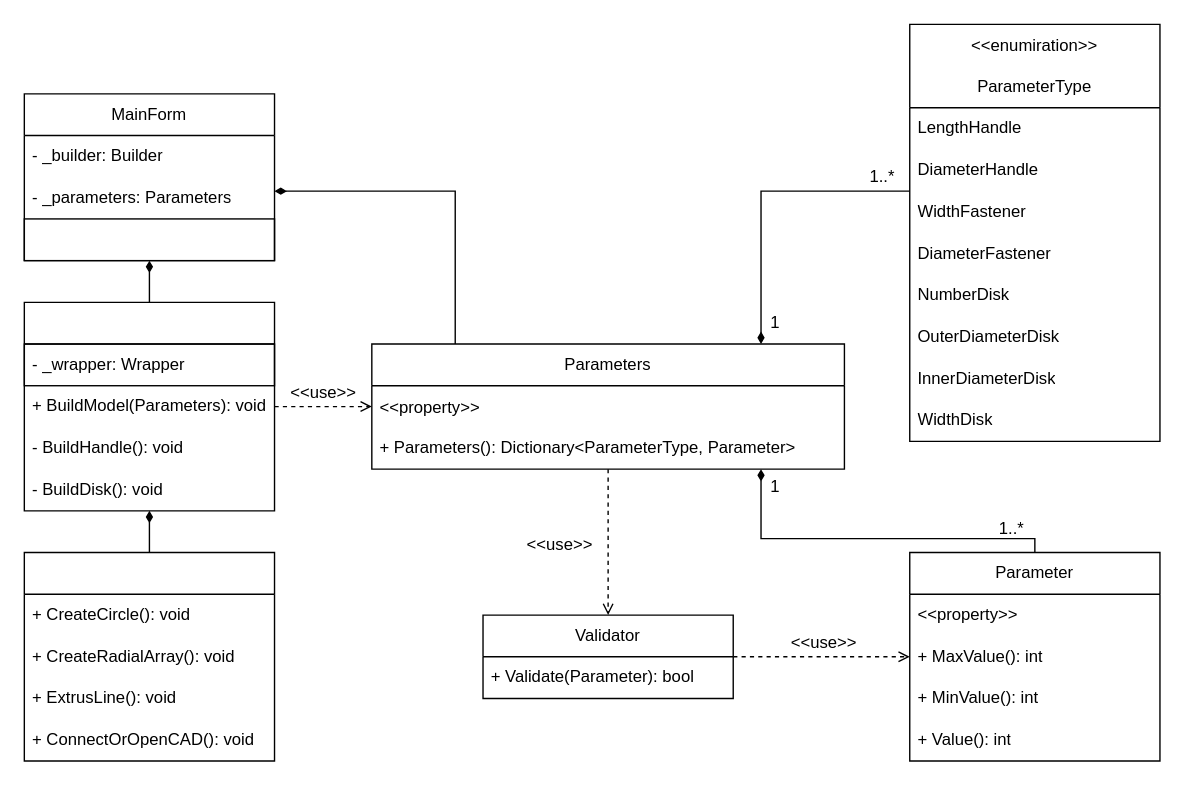
The diagram is 1184 pixels wide and 785 high, and some of its shapes have lost their labels. The box of each missing label's shape, as (x1, y1, x2, y2) in pixels:
- BuildModel(): void: (23, 218, 275, 261)
Builder: (23, 301, 275, 511)
Wrapper: (23, 551, 275, 761)
